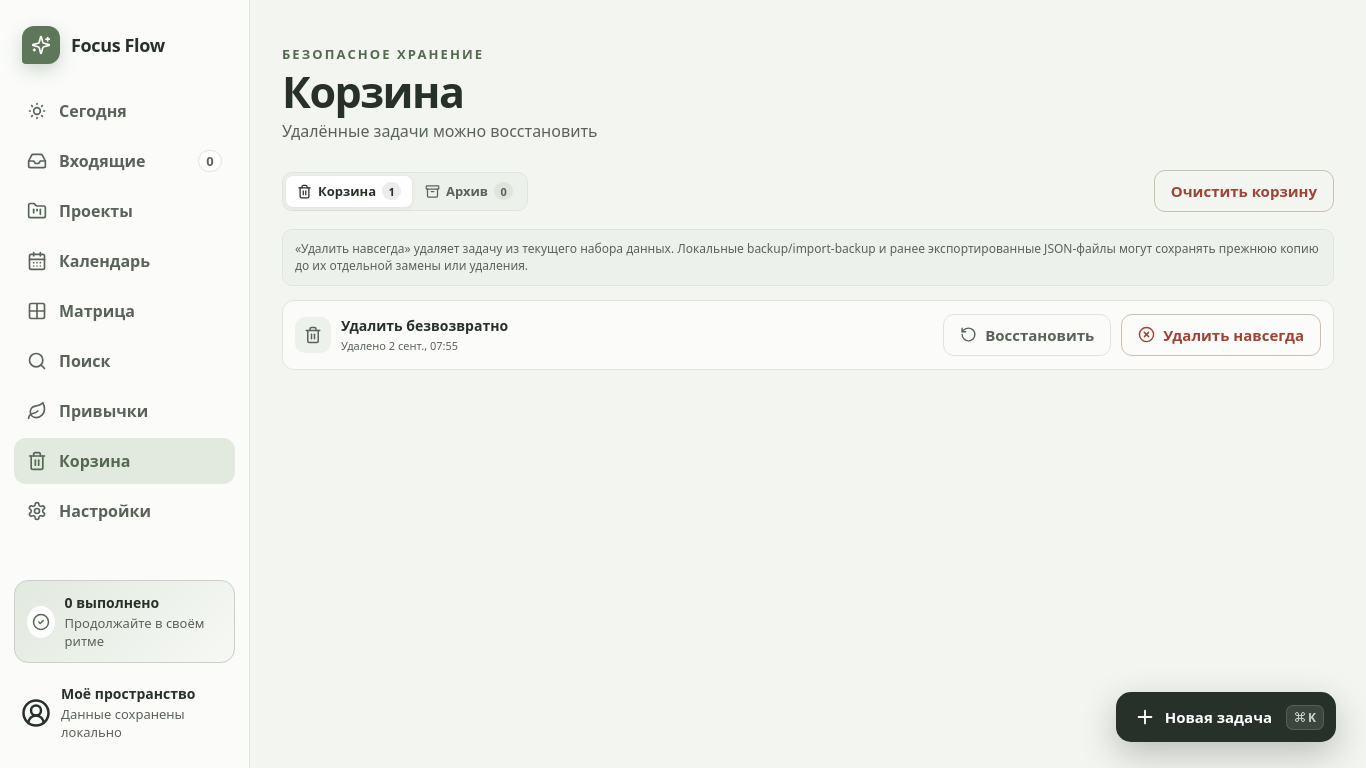
Test: task lifecycle › requires an explicit second action before permanent deletion
Expected: the heading "Корзина" is shown, [282,62,464,121]
Expected: the text "Удалить безвозвратно" is shown, [341,316,508,335]
Click the button "Очистить корзину". click: click(1244, 191)
box: [1154,170,1334,212]
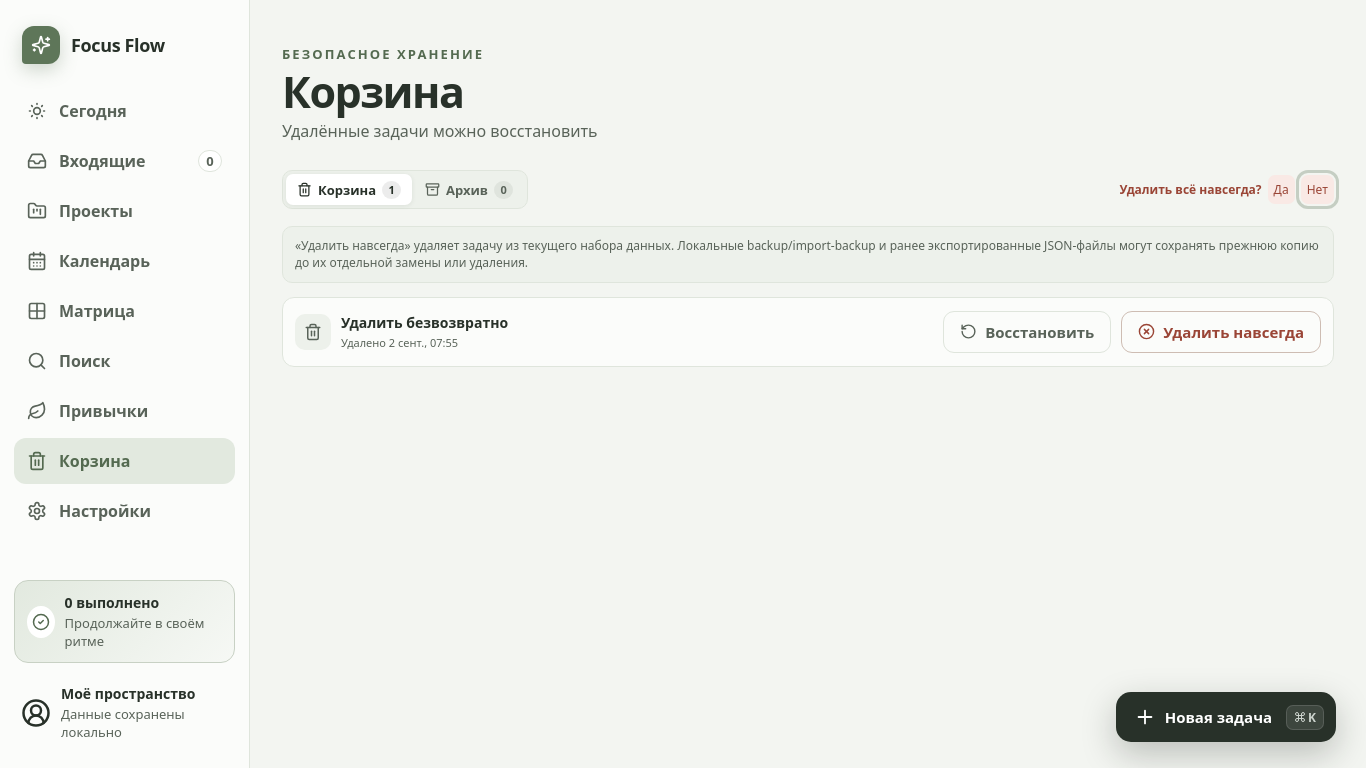
Click the button "Нет". click: click(1317, 190)
box: [1301,175,1334,204]
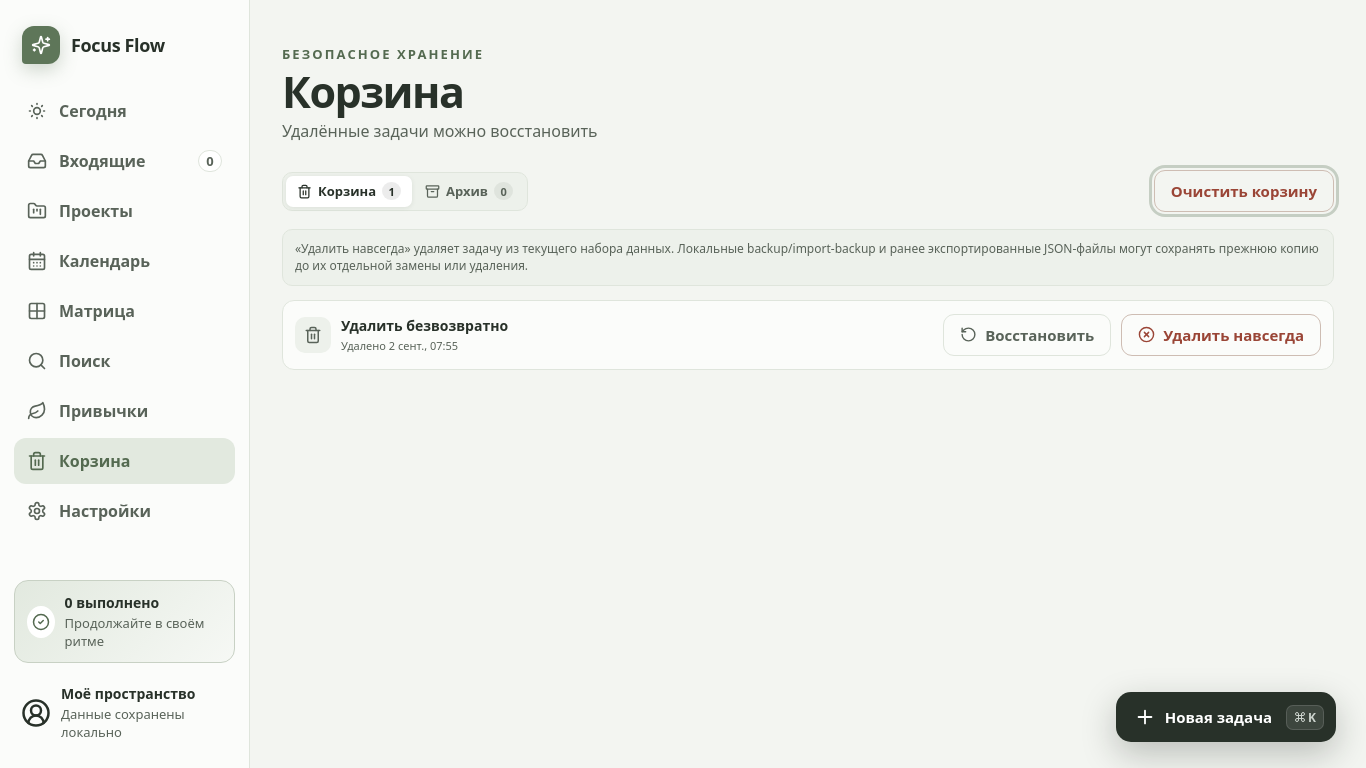
Click the button "Удалить навсегда". click: click(1221, 335)
box: [1121,314,1321,356]
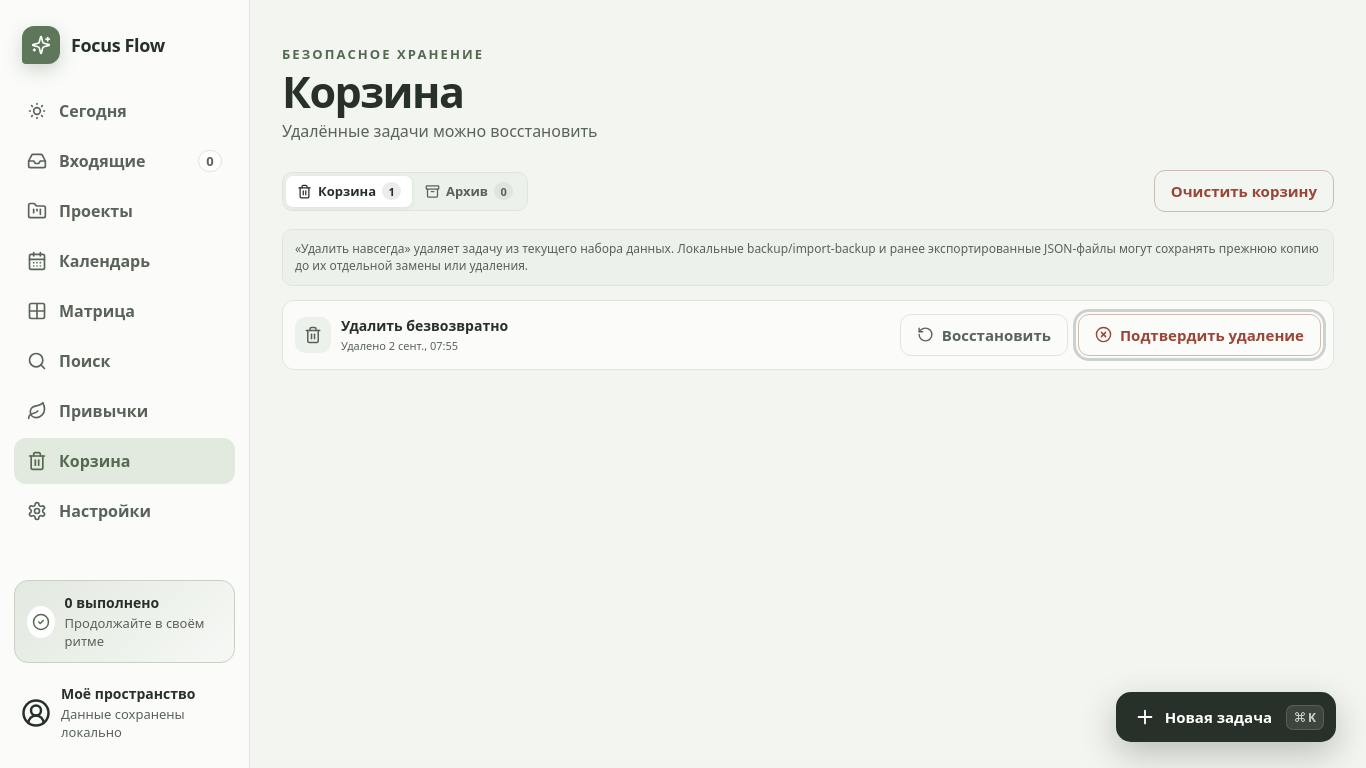
Expected: the text "Удалить безвозвратно" is shown, [341,316,508,335]
Click the button "Подтвердить удаление". click: click(1199, 335)
box: [1078,314,1321,356]
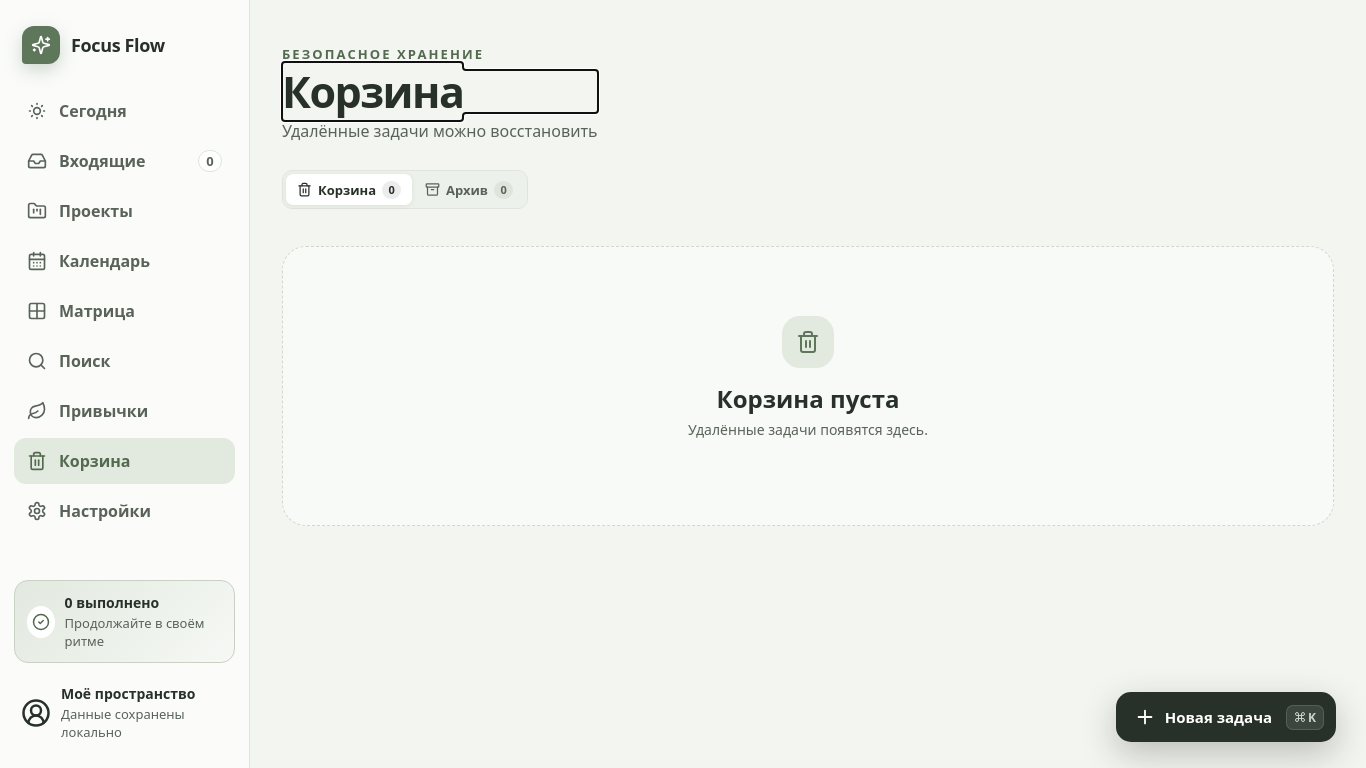
Now the text "Удалить безвозвратно" is gone
Now the heading "Корзина пуста" is shown, box [717,382,899,414]
